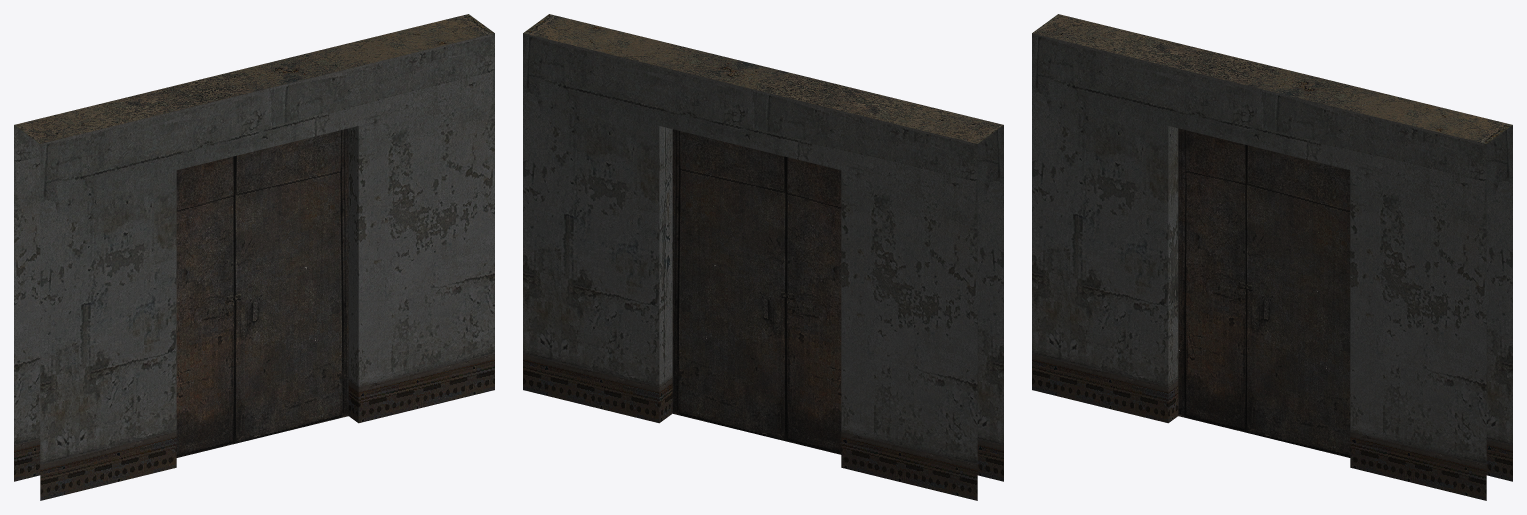
Rendered from doorway_rtx_1_wide.glb.
The picture shows the model from 3 angles, left to right: view 1: azimuth 30°, elevation 25°; view 2: azimuth 150°, elevation 25°; view 3: azimuth 330°, elevation 25°; orthographic projection.
Parts seen in each view (by area): view 1: doorway_rtx_1_wide, door_rtx_1_piece_2, door_rtx_1_piece_1; view 2: doorway_rtx_1_wide, door_rtx_1_piece_2, door_rtx_1_piece_1; view 3: doorway_rtx_1_wide, door_rtx_1_piece_2, door_rtx_1_piece_1.
Boxes of the visible parts, <box> form: doorway_rtx_1_wide: <box>14,14,494,500</box>; door_rtx_1_piece_2: <box>235,128,348,443</box>; door_rtx_1_piece_1: <box>176,156,234,457</box>; doorway_rtx_1_wide: <box>523,14,1003,500</box>; door_rtx_1_piece_2: <box>672,129,786,441</box>; door_rtx_1_piece_1: <box>786,157,841,454</box>; doorway_rtx_1_wide: <box>1032,14,1512,500</box>; door_rtx_1_piece_2: <box>1246,145,1350,457</box>; door_rtx_1_piece_1: <box>1178,128,1246,432</box>.
Size of the model in its own units: 4 by 3 by 0.4.
Materials: 3 (3 with a texture image).
